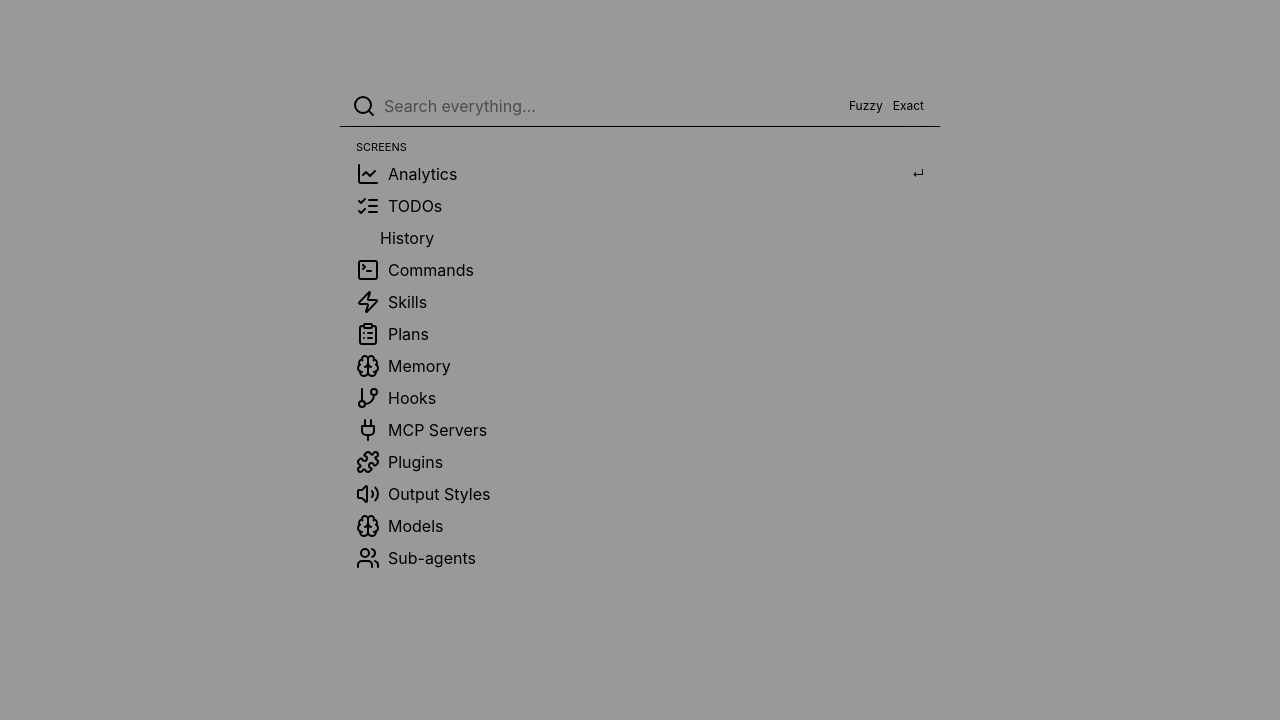
Test: SearchOverlay: grouped results and highlighting (§2.4, §7) › renders a category header, the hit, and the highlighted substring as a <mark>
Type "tests" into the field with placeholder "Search everything…" at x=610, y=106, box [384,94,837,118]
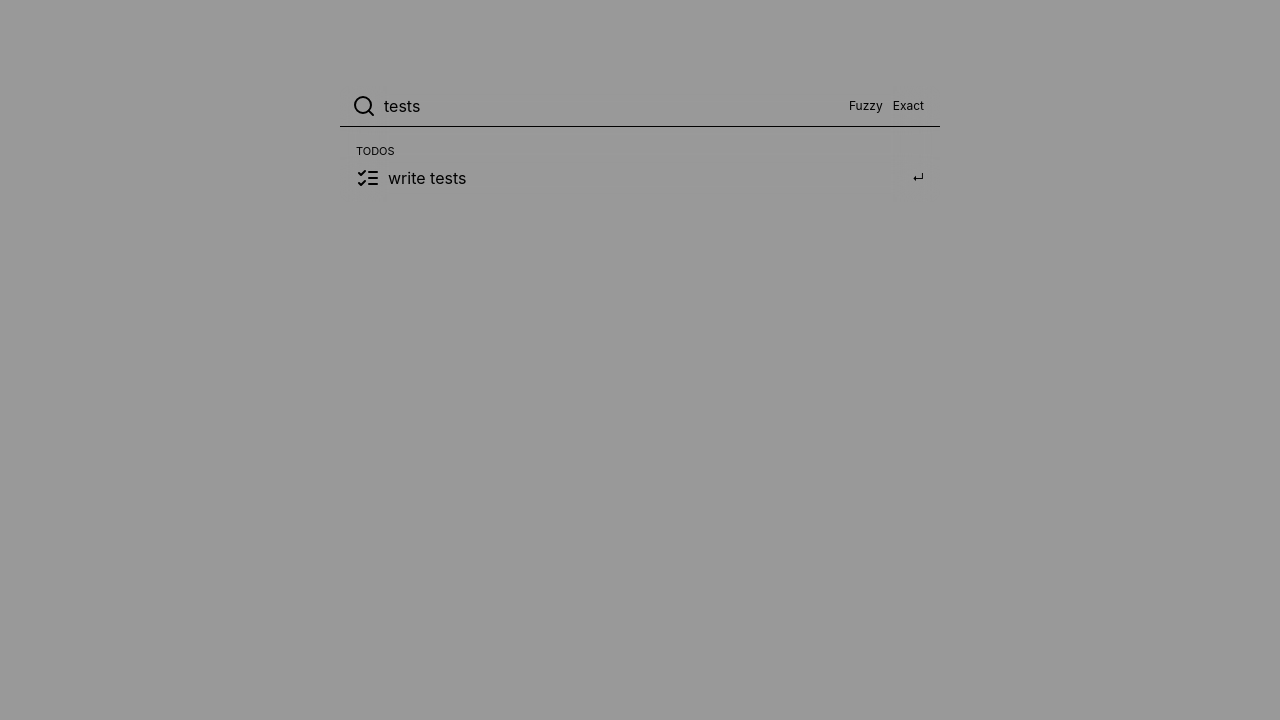
Check: the text "TODOS" is shown, box [356,144,395,158]
Check: the text "write tests" is shown, box [388,168,466,188]
Check: the text "tests" is shown, box [430,168,466,188]
